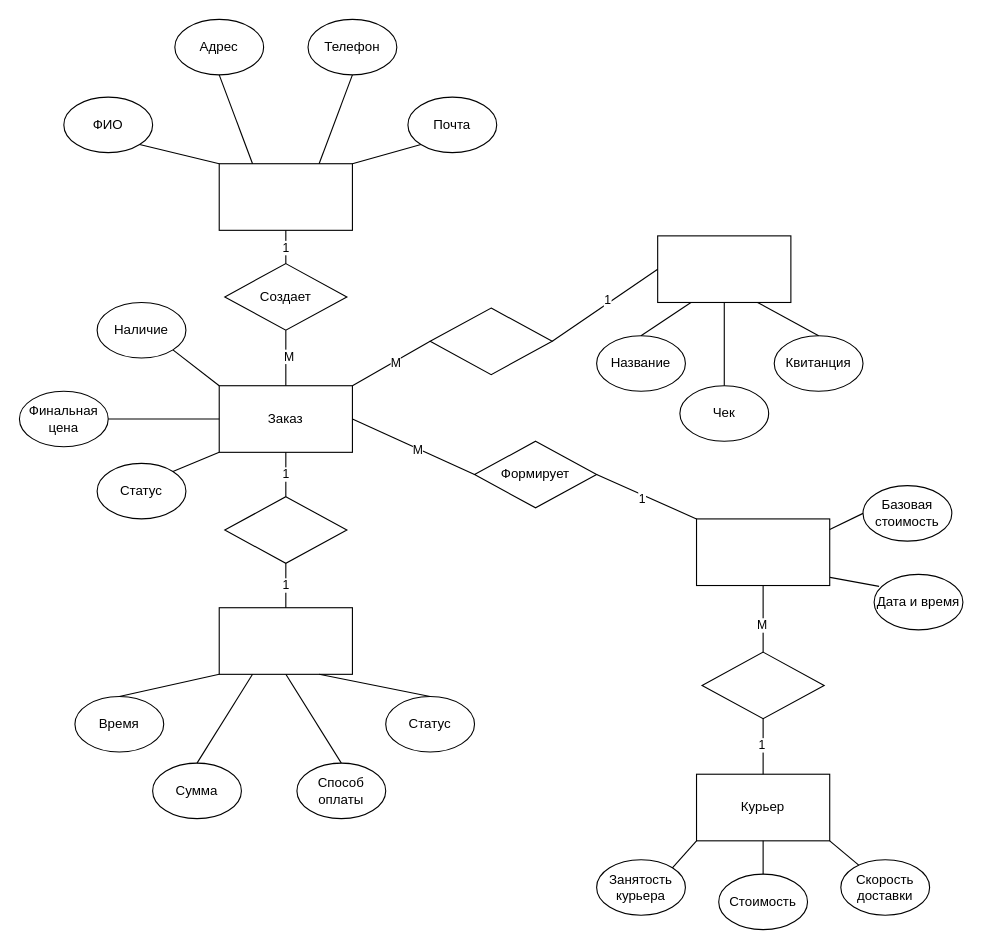
Some shapes in this 982 by 949 pixel diagram are drawn without their labels. Each missing label, with the box of its shape:
Выполняет: (701, 651, 824, 719)
Добавляет: (429, 307, 552, 375)
Доставка: (695, 518, 830, 586)
Клиент: (218, 163, 352, 230)
Оплата: (218, 607, 352, 674)
Подтверждается: (224, 496, 347, 563)
Товар: (657, 235, 791, 302)
